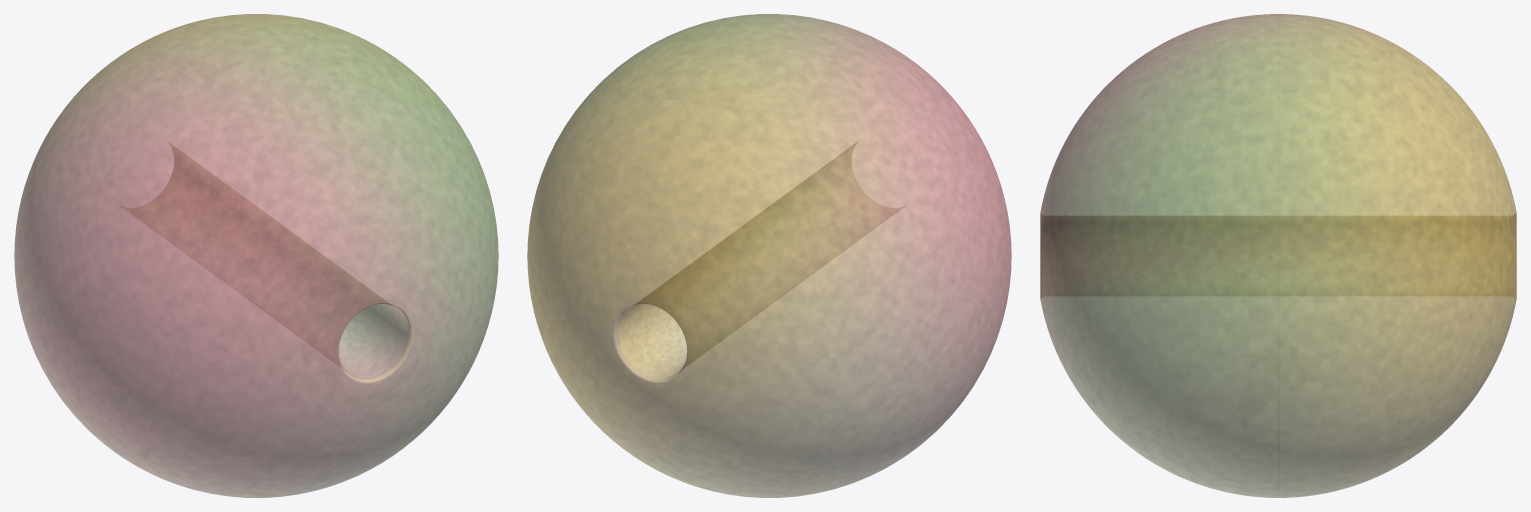
The model's file is multicolor-tourmaline-6mm.glb.
3 views of the same model, side by side, from view 1: azimuth 30°, elevation 25°; view 2: azimuth 150°, elevation 25°; view 3: azimuth 270°, elevation 25° (orthographic).
Parts seen in each view (by area): view 1: multicolor-tourmaline.001; view 2: multicolor-tourmaline.001; view 3: multicolor-tourmaline.001.
Part boxes in pixels (x1,y1,x2,y2): multicolor-tourmaline.001: (14, 14, 498, 497); multicolor-tourmaline.001: (527, 14, 1011, 497); multicolor-tourmaline.001: (1040, 14, 1516, 497).
Size of the model in its own units: 0.006 by 0.006 by 0.0059.
2 materials, 1 textured.
